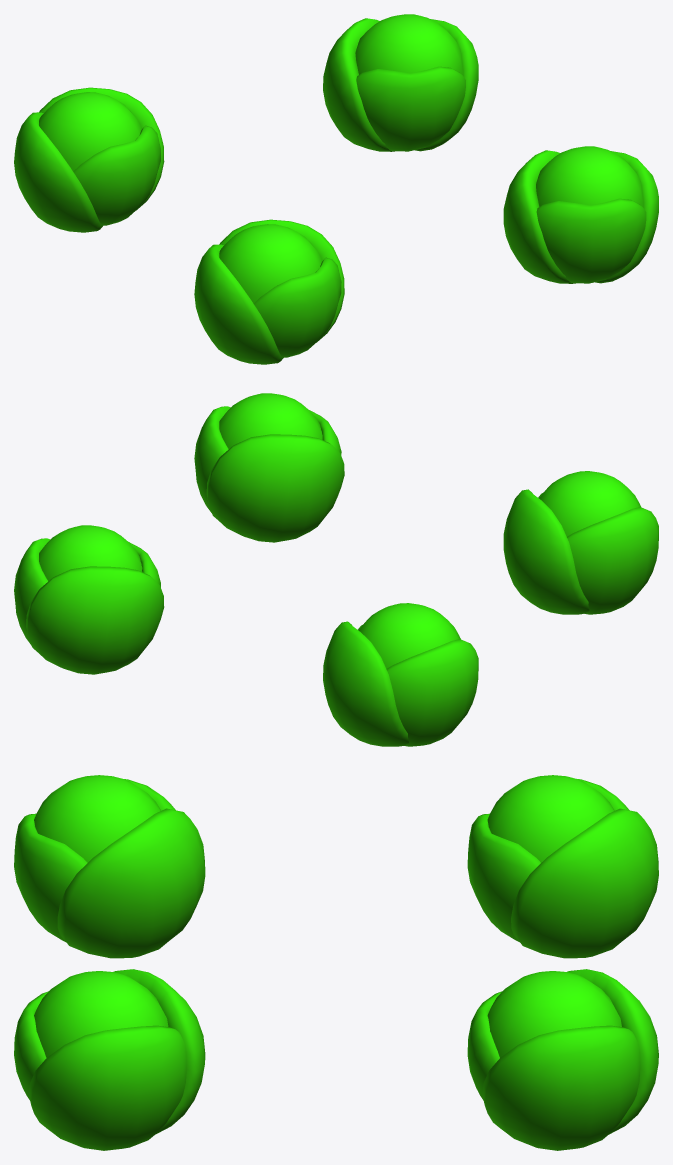
Rendered from Farm_Crop_Cabbage_Step_02.fbx.
3 renders of one model, top to bottom at view 1: azimuth 30°, elevation 25°; view 2: azimuth 150°, elevation 25°; view 3: azimuth 270°, elevation 25°, orthographic. The views are drawn at different scales.
Visible parts, largest first — view 1: Farm_Crop_Cabbage_Step_02; view 2: Farm_Crop_Cabbage_Step_02; view 3: Farm_Crop_Cabbage_Step_02.
Boxes of the visible parts, x1,y1,x2,y2 form: Farm_Crop_Cabbage_Step_02: [14, 14, 658, 364]; Farm_Crop_Cabbage_Step_02: [14, 393, 658, 746]; Farm_Crop_Cabbage_Step_02: [14, 775, 658, 1150].
Size of the model in its own units: 143 by 38.6 by 142.
